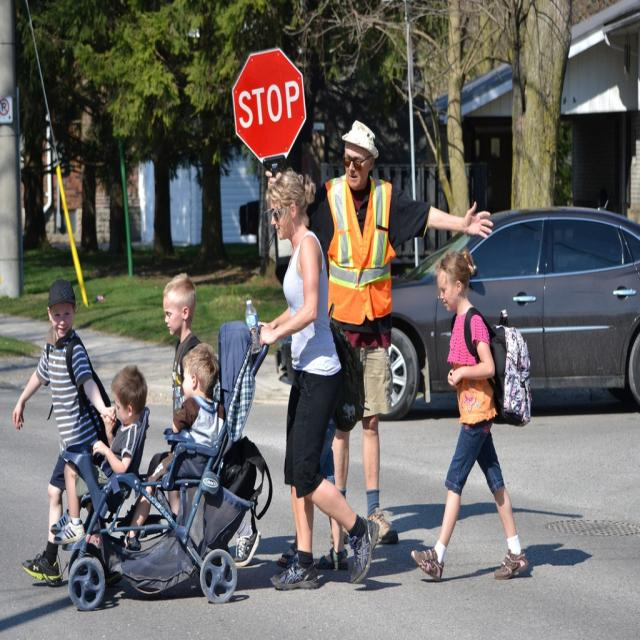body: (264, 116, 495, 550), (245, 164, 382, 598), (408, 242, 535, 584), (9, 273, 123, 590), (158, 270, 262, 572), (114, 343, 225, 553), (48, 359, 150, 549), (478, 205, 628, 276)
